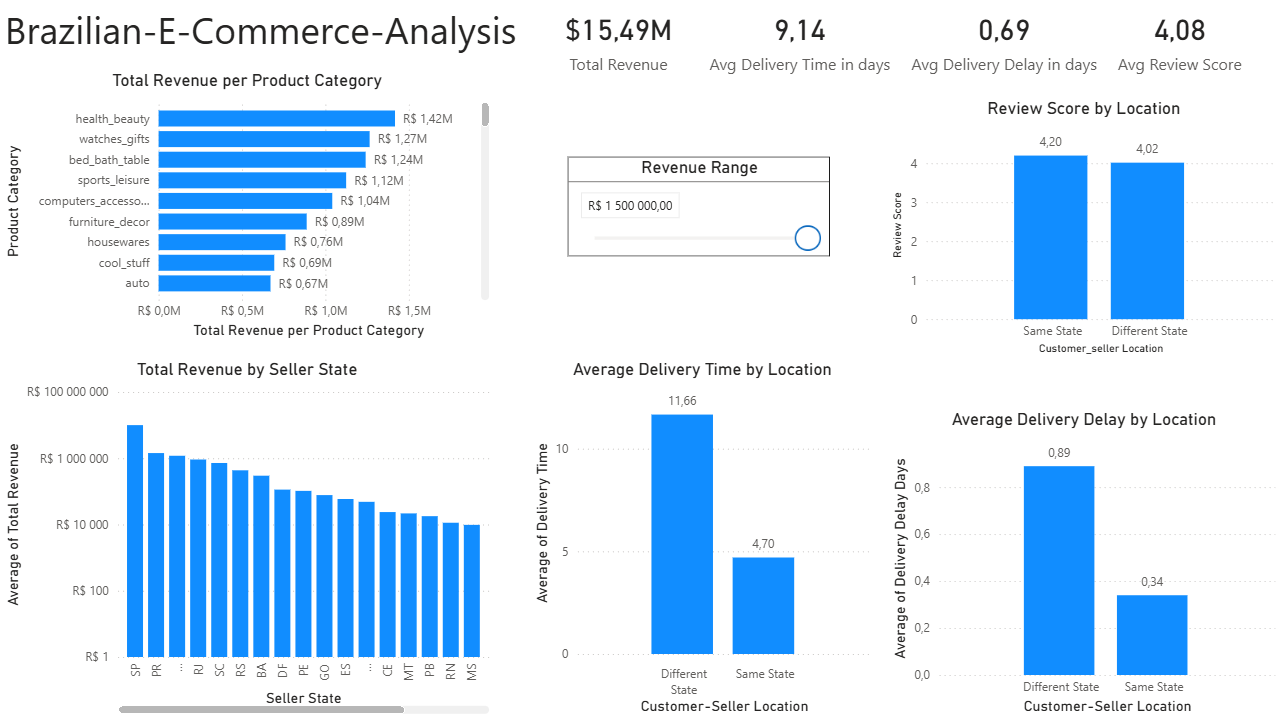

This screenshot's page, from the dashboard's own definition file:
{"tool":"powerbi","page":{"name":"Page 1","canvas":[1280,720],"ordinal":0},"visuals":[{"type":"barChart","title":"Total Revenue per Product Category","fields":{"Y":["Sum(olist_orders_dataset.total_order_value)"],"Category":["olist_orders_dataset.product_category_name_english"]},"box":[0,71.4,494.3,272.9],"z":0},{"type":"slicer","title":"Revenue Range","fields":{"Values":["revenue_range.revenue_range"]},"box":[567.5,157.5,262.5,100],"z":1000},{"type":"textbox","box":[0,0,1280,61.4],"z":2000},{"type":"clusteredColumnChart","title":"Total Revenue by Seller State","fields":{"Category":["olist_orders_dataset.seller_state"],"Y":["Sum(olist_orders_dataset.total_order_value)"]},"box":[0,360,494.3,360],"z":3000},{"type":"columnChart","title":"Average Delivery Time by Location","fields":{"Y":["Avg(olist_orders_dataset.delivery_time)"],"Category":["olist_orders_dataset.Location Label"]},"box":[528.6,360,347.1,360],"z":4000},{"type":"columnChart","title":"Average Delivery Delay by Location","fields":{"Category":["olist_orders_dataset.Location Label"],"Y":["Avg(olist_orders_dataset.delivery_delay_days)"]},"box":[887.1,410,392.9,310],"z":5000},{"type":"columnChart","title":"Review Score by Location","fields":{"Category":["olist_orders_dataset.Location Label"],"Y":["Avg(olist_orders_dataset.review_score)"]},"box":[887.1,98.6,392.9,261.4],"z":6000},{"type":"card","fields":{"Values":["Sum(olist_orders_dataset.total_order_value)"]},"box":[538.8,0,160,80],"z":7000},{"type":"card","fields":{"Values":["Avg(olist_orders_dataset.delivery_time)"]},"box":[698.8,0,202.5,80],"z":8000},{"type":"card","fields":{"Values":["Avg(olist_orders_dataset.delivery_delay_days)"]},"box":[901.2,0,206.2,80],"z":9000},{"type":"card","fields":{"Values":["Avg(olist_orders_dataset.review_score)"]},"box":[1107.5,0,145,80],"z":10000}]}

Visuals, with their boxes in screenshot pixels (x1, y1, x2, y2), scaled from the page's 1280x720 canvas onto the 1277x718 screenshot:
"Total Revenue per Product Category" barChart: [0,71,493,343]
"Revenue Range" slicer: [566,157,828,257]
textbox: [0,0,1276,61]
"Total Revenue by Seller State" clusteredColumnChart: [0,359,493,717]
"Average Delivery Time by Location" columnChart: [527,359,874,717]
"Average Delivery Delay by Location" columnChart: [885,409,1276,717]
"Review Score by Location" columnChart: [885,98,1276,359]
card - Sum(olist_orders_dataset.total_order_value): [538,0,697,80]
card - Avg(olist_orders_dataset.delivery_time): [697,0,899,80]
card - Avg(olist_orders_dataset.delivery_delay_days): [899,0,1105,80]
card - Avg(olist_orders_dataset.review_score): [1105,0,1250,80]
